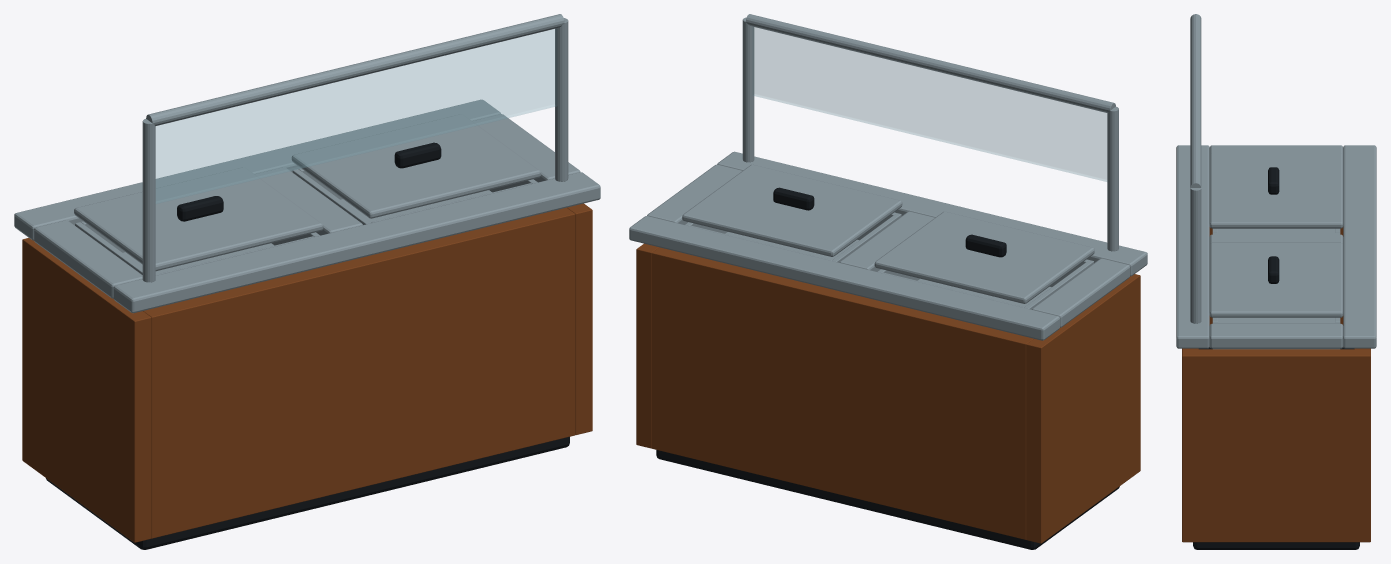
3 renders of one model, left to right at view 1: azimuth 30°, elevation 25°; view 2: azimuth 150°, elevation 25°; view 3: azimuth 270°, elevation 25°, orthographic. The views are drawn at different scales.
Parts seen in each view (by area): view 1: BODY_Front, GUARD_ClearPane, BODY_Side.001, COUNTER_Edge.001, LID.001, LID, COUNTER_Edge, GUARD_TopRail, PLINTH, BODY_Side, COUNTER_Divider.001, COUNTER_Divider.002 (+5 smaller); view 2: BODY_Back, GUARD_ClearPane, BODY_Side.001, COUNTER_Edge, LID, LID.001, COUNTER_Edge.001, GUARD_TopRail, PLINTH, BODY_Side, COUNTER_Divider.001, COUNTER_Divider (+5 smaller); view 3: BODY_Side, LID, LID.001, COUNTER_Edge, COUNTER_Edge.001, COUNTER_Divider, GUARD_TopRail, GUARD_Post.001, PLINTH, COUNTER_Divider.001, COUNTER_Divider.002, WELL_Base.001 (+4 smaller).
Boxes of the visible parts, x1,y1,x2,y2 form: BODY_Front: (143, 207, 575, 538); GUARD_ClearPane: (156, 29, 556, 203); BODY_Side.001: (22, 238, 151, 542); COUNTER_Edge.001: (113, 172, 600, 313); LID.001: (291, 114, 540, 218); LID: (74, 167, 323, 271); COUNTER_Edge: (14, 99, 500, 240); GUARD_TopRail: (146, 14, 564, 125); PLINTH: (46, 437, 569, 549); BODY_Side: (567, 203, 592, 434); COUNTER_Divider.001: (34, 220, 142, 298); COUNTER_Divider.002: (255, 167, 362, 235); BODY_Back: (651, 247, 1033, 539); GUARD_ClearPane: (753, 27, 1106, 181); BODY_Side.001: (1026, 274, 1140, 543); COUNTER_Edge: (629, 216, 1059, 340); LID: (874, 211, 1094, 303); LID.001: (682, 164, 902, 256); COUNTER_Edge.001: (717, 151, 1147, 276); GUARD_TopRail: (745, 14, 1115, 112); PLINTH: (656, 450, 1119, 549); BODY_Side: (636, 243, 658, 448); COUNTER_Divider.001: (1032, 258, 1130, 327); COUNTER_Divider: (647, 164, 742, 224); BODY_Side: (1182, 349, 1370, 542); LID: (1209, 153, 1343, 228); LID.001: (1209, 242, 1343, 317); COUNTER_Edge: (1343, 145, 1376, 348); COUNTER_Edge.001: (1176, 145, 1209, 348); COUNTER_Divider: (1209, 323, 1343, 348); GUARD_TopRail: (1190, 14, 1201, 187); GUARD_Post.001: (1190, 188, 1201, 323); PLINTH: (1193, 347, 1359, 549); COUNTER_Divider.001: (1209, 145, 1343, 155); COUNTER_Divider.002: (1209, 234, 1343, 244); WELL_Base.001: (1218, 317, 1334, 322).
Bounding box in the file's own units: 1.64 × 1.45 × 0.72.
